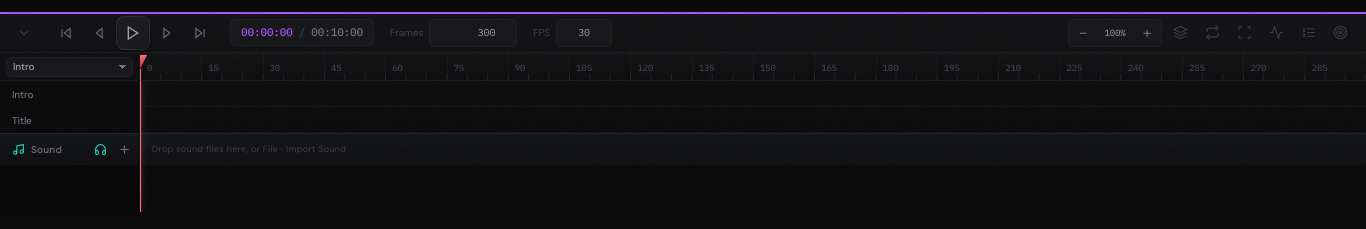
it: Timeline › shows the timeline in view: one artboard’s layers, or the page’s outside them
Expected: the text "Title" is shown, [12,114,32,126]
Select "Page (outside artboards)" in the dropdown named "Timeline" at (70,66), box [6,56,133,76]
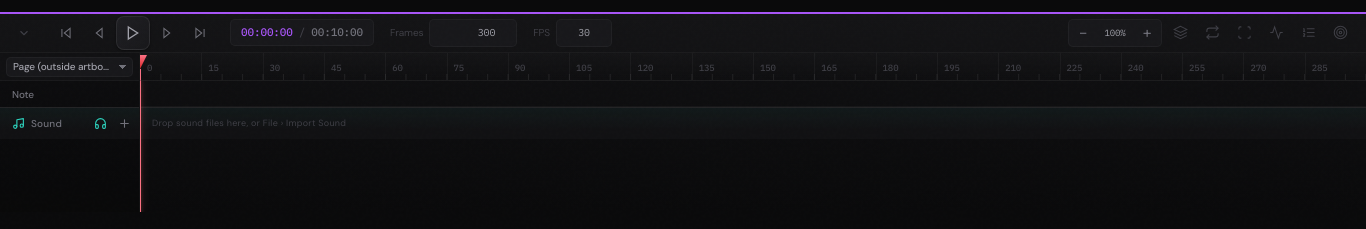
Now the text "Note" is shown, box [12,88,34,100]
Now the text with test id "timeline-layer-title" is gone
Select "Outro" in the dropdown named "Timeline" at (70,66), box [6,56,133,76]
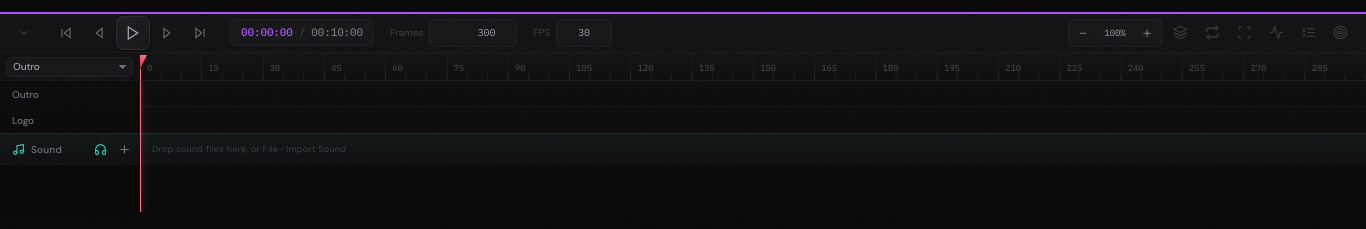
Now the text "Logo" is shown, box [12,114,34,126]
